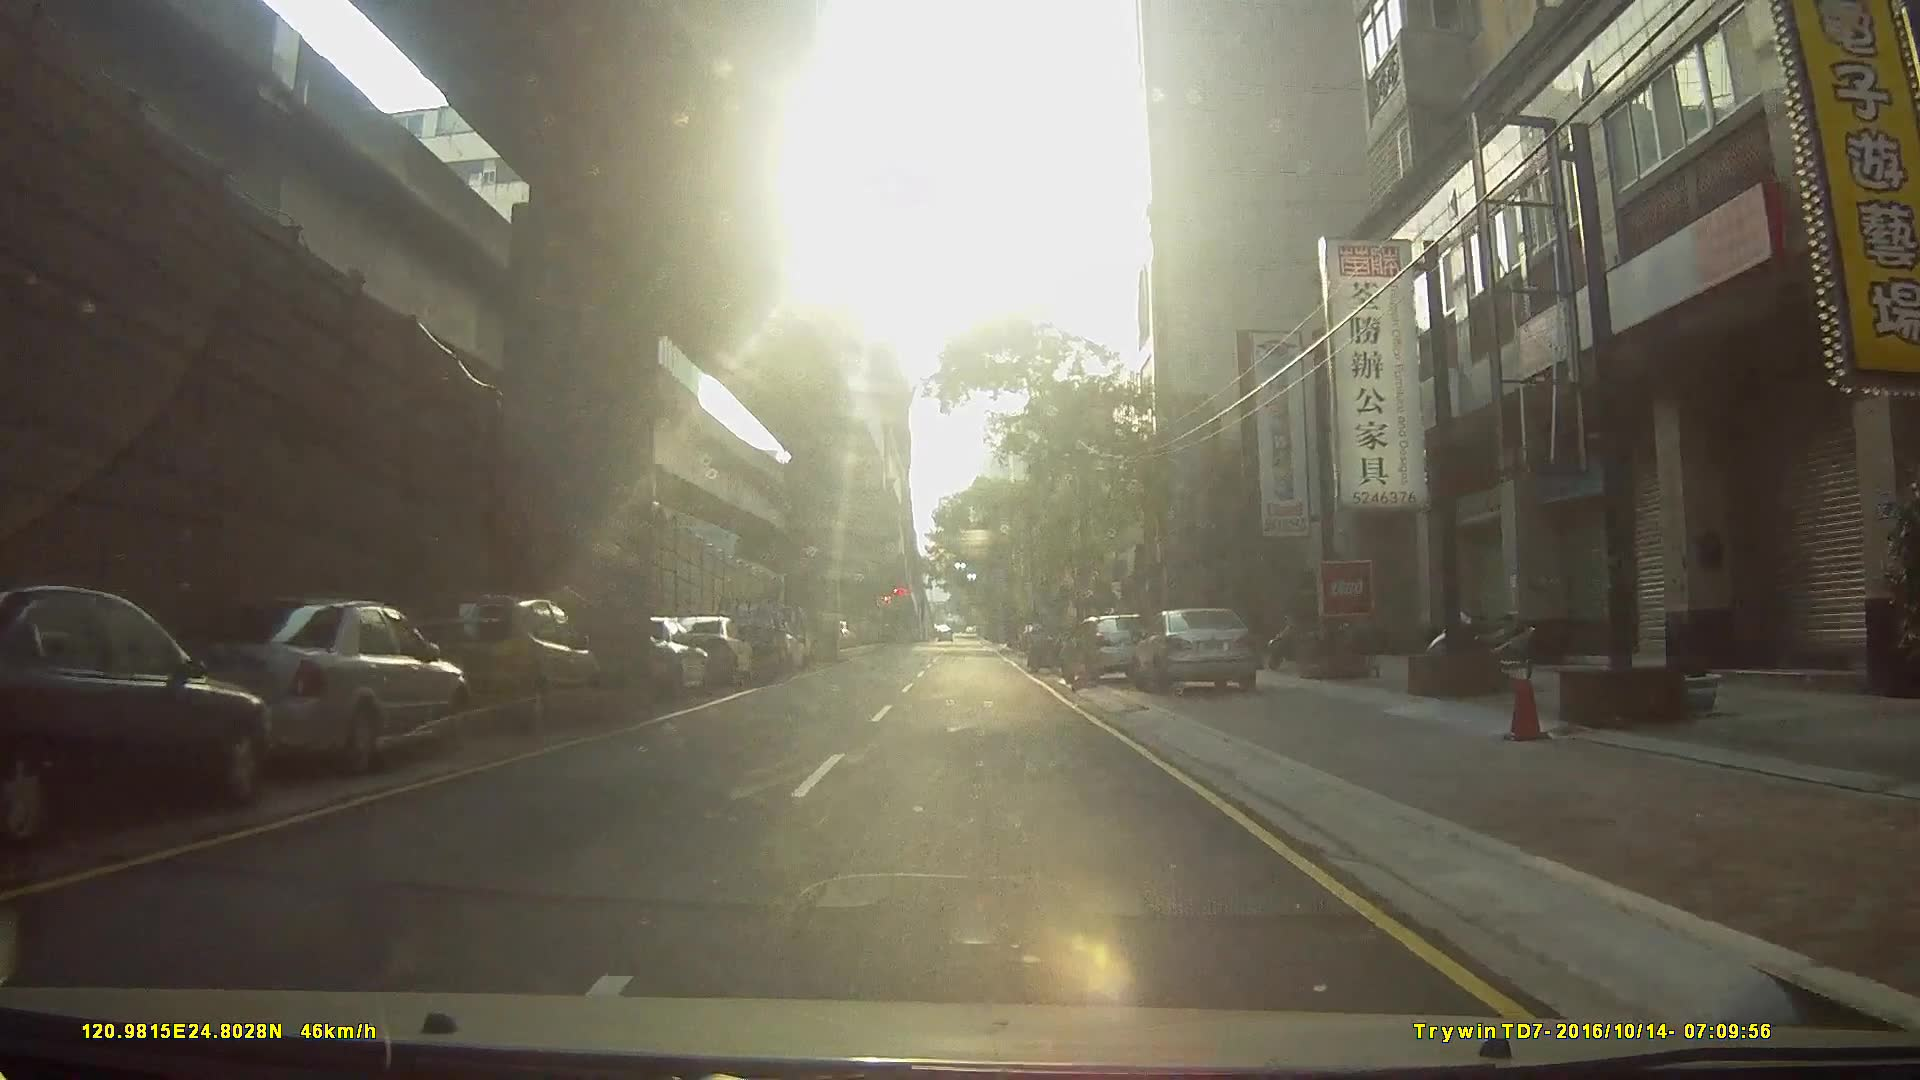rider: (1024, 624, 1064, 678)
vehicle: (1, 573, 289, 844), (167, 593, 452, 780), (385, 589, 596, 740), (1133, 606, 1263, 699), (614, 615, 710, 698), (1062, 613, 1158, 688), (709, 593, 788, 682), (662, 613, 753, 686)
